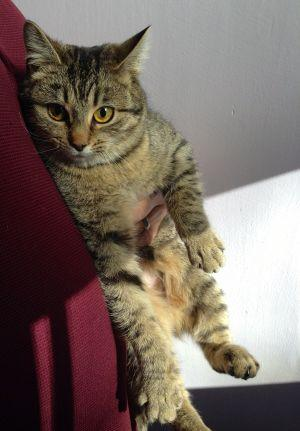bengal: (12, 11, 170, 179)
